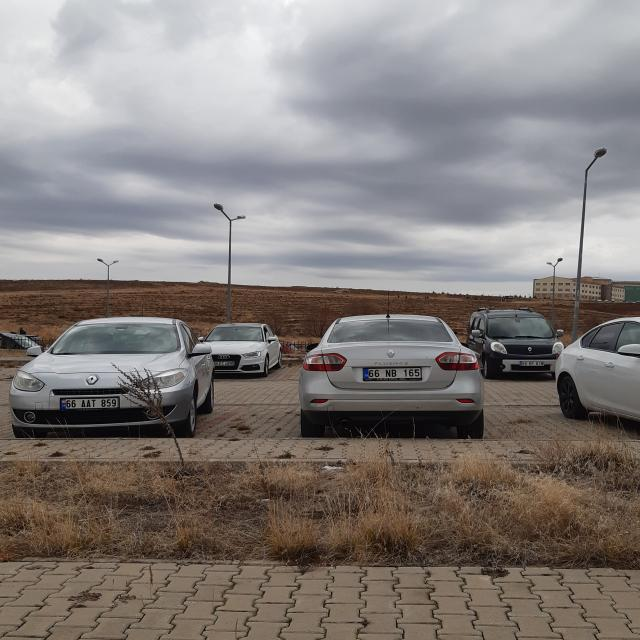license_plate: (60, 397, 118, 408), (363, 368, 422, 378), (520, 361, 545, 366)
